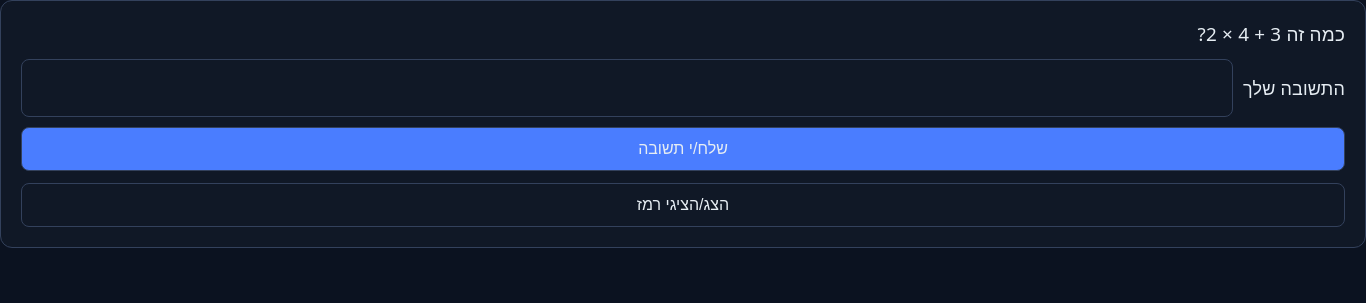
MathExercisePanel › shows correct feedback and calls onResult(true) for the right answer
The image size is (1366, 303).
Type "11" into the number field with test id "math-answer-input". click: (627, 88)
box: [21,59,1233,117]
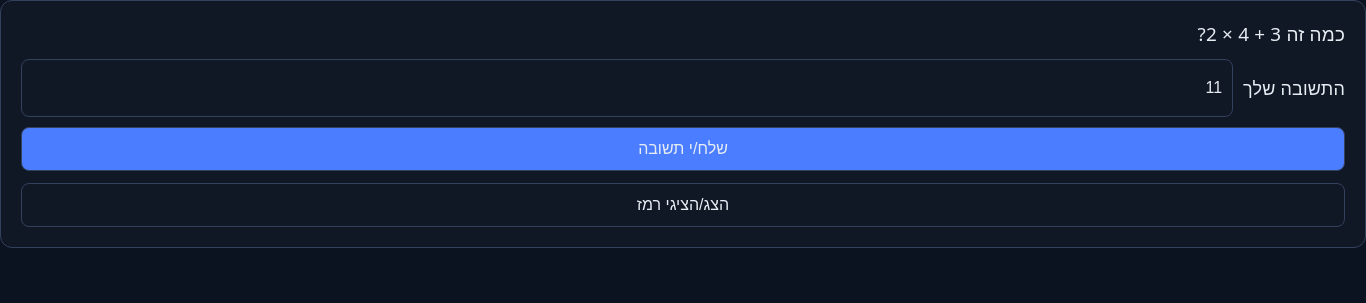
Click the button with test id "math-submit-button". click: (683, 149)
box: [21,127,1345,171]
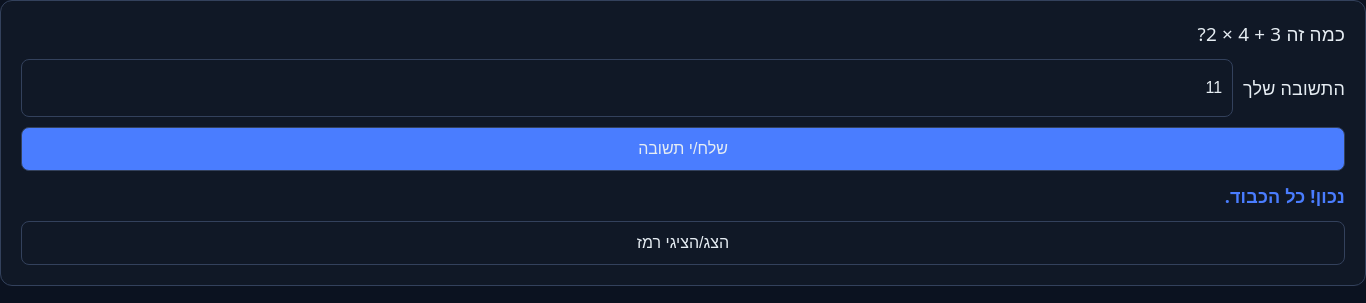
Check: the text with test id "math-exercise-feedback" reads "נכון! כל הכבוד.", box [1225,184,1345,208]
